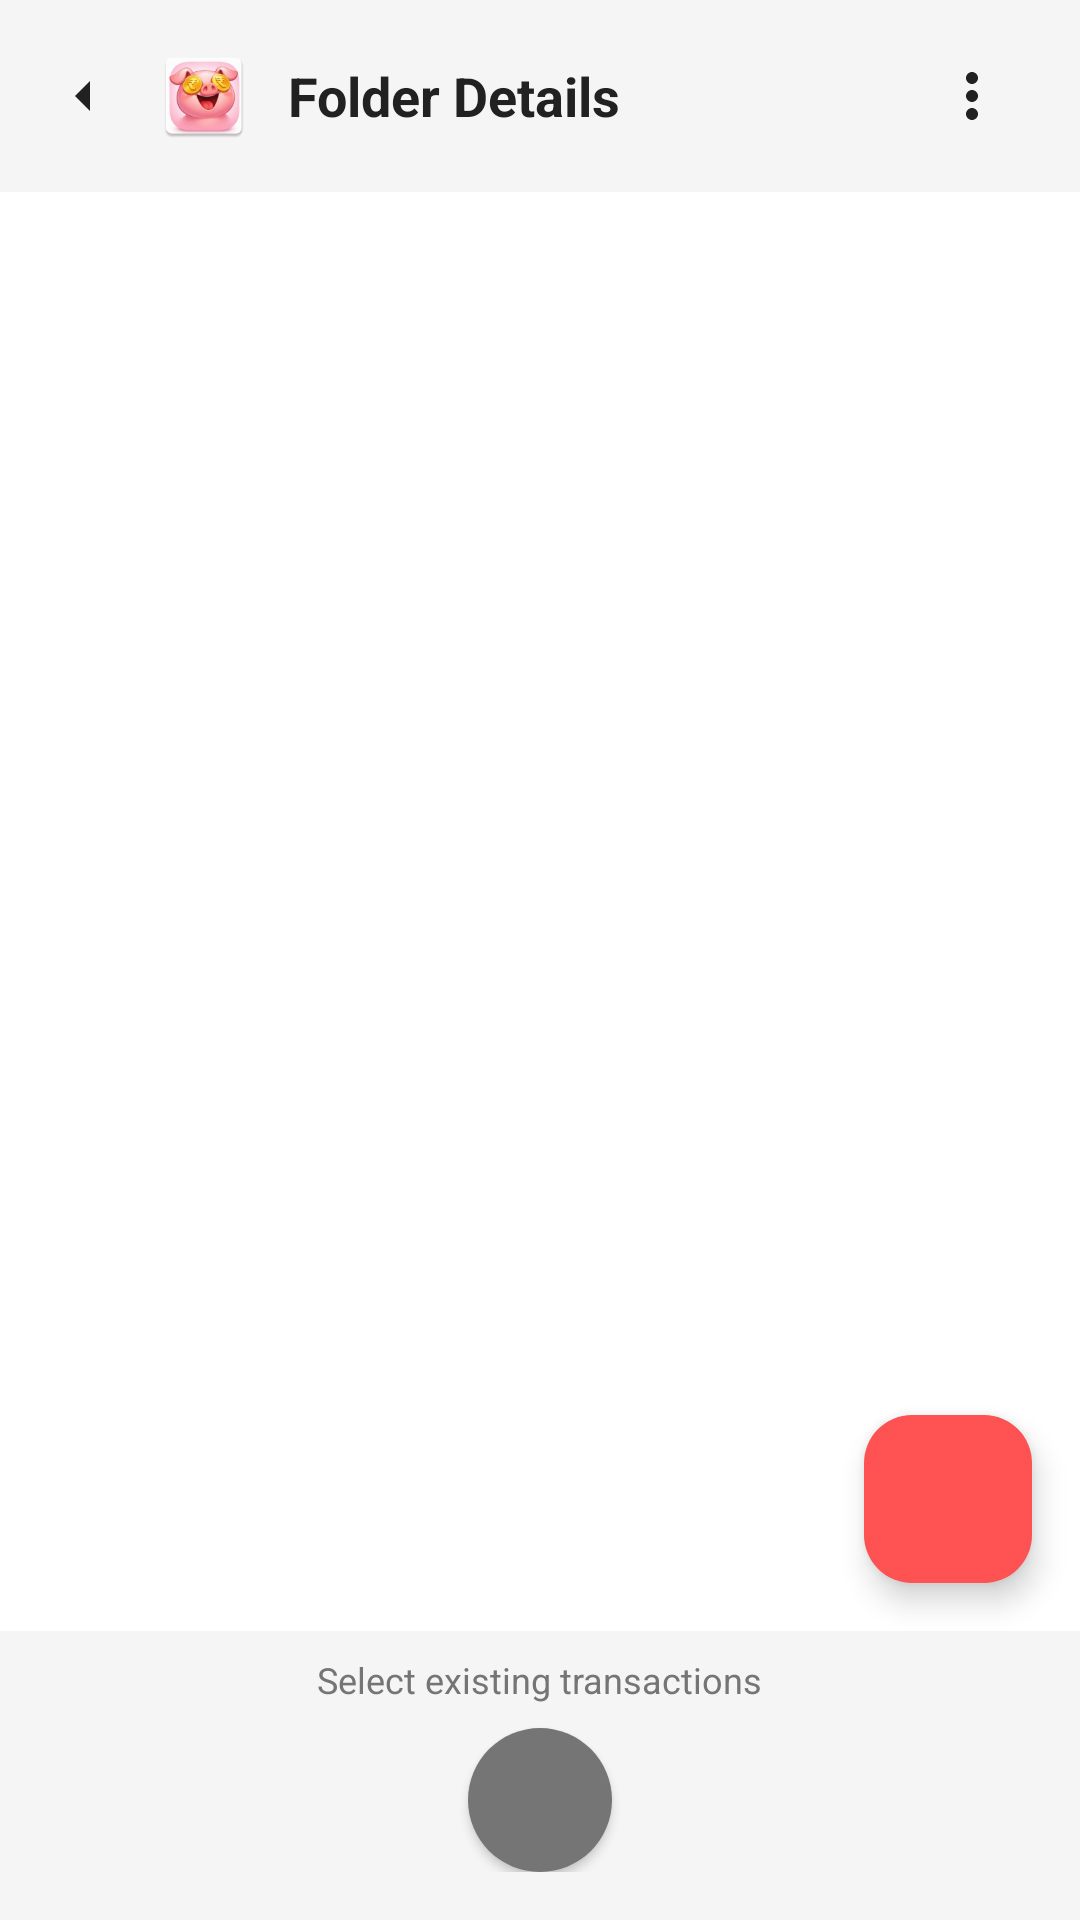

Named icons in this screenshot (1080*1920) and their centers, (x=x, y=y):
Back: (x=82, y=96)
Folder Options: (x=972, y=96)
